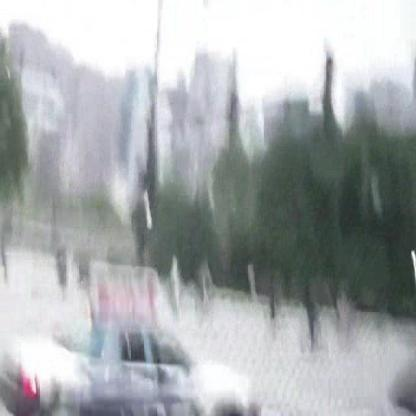other: (17, 364, 45, 401)
